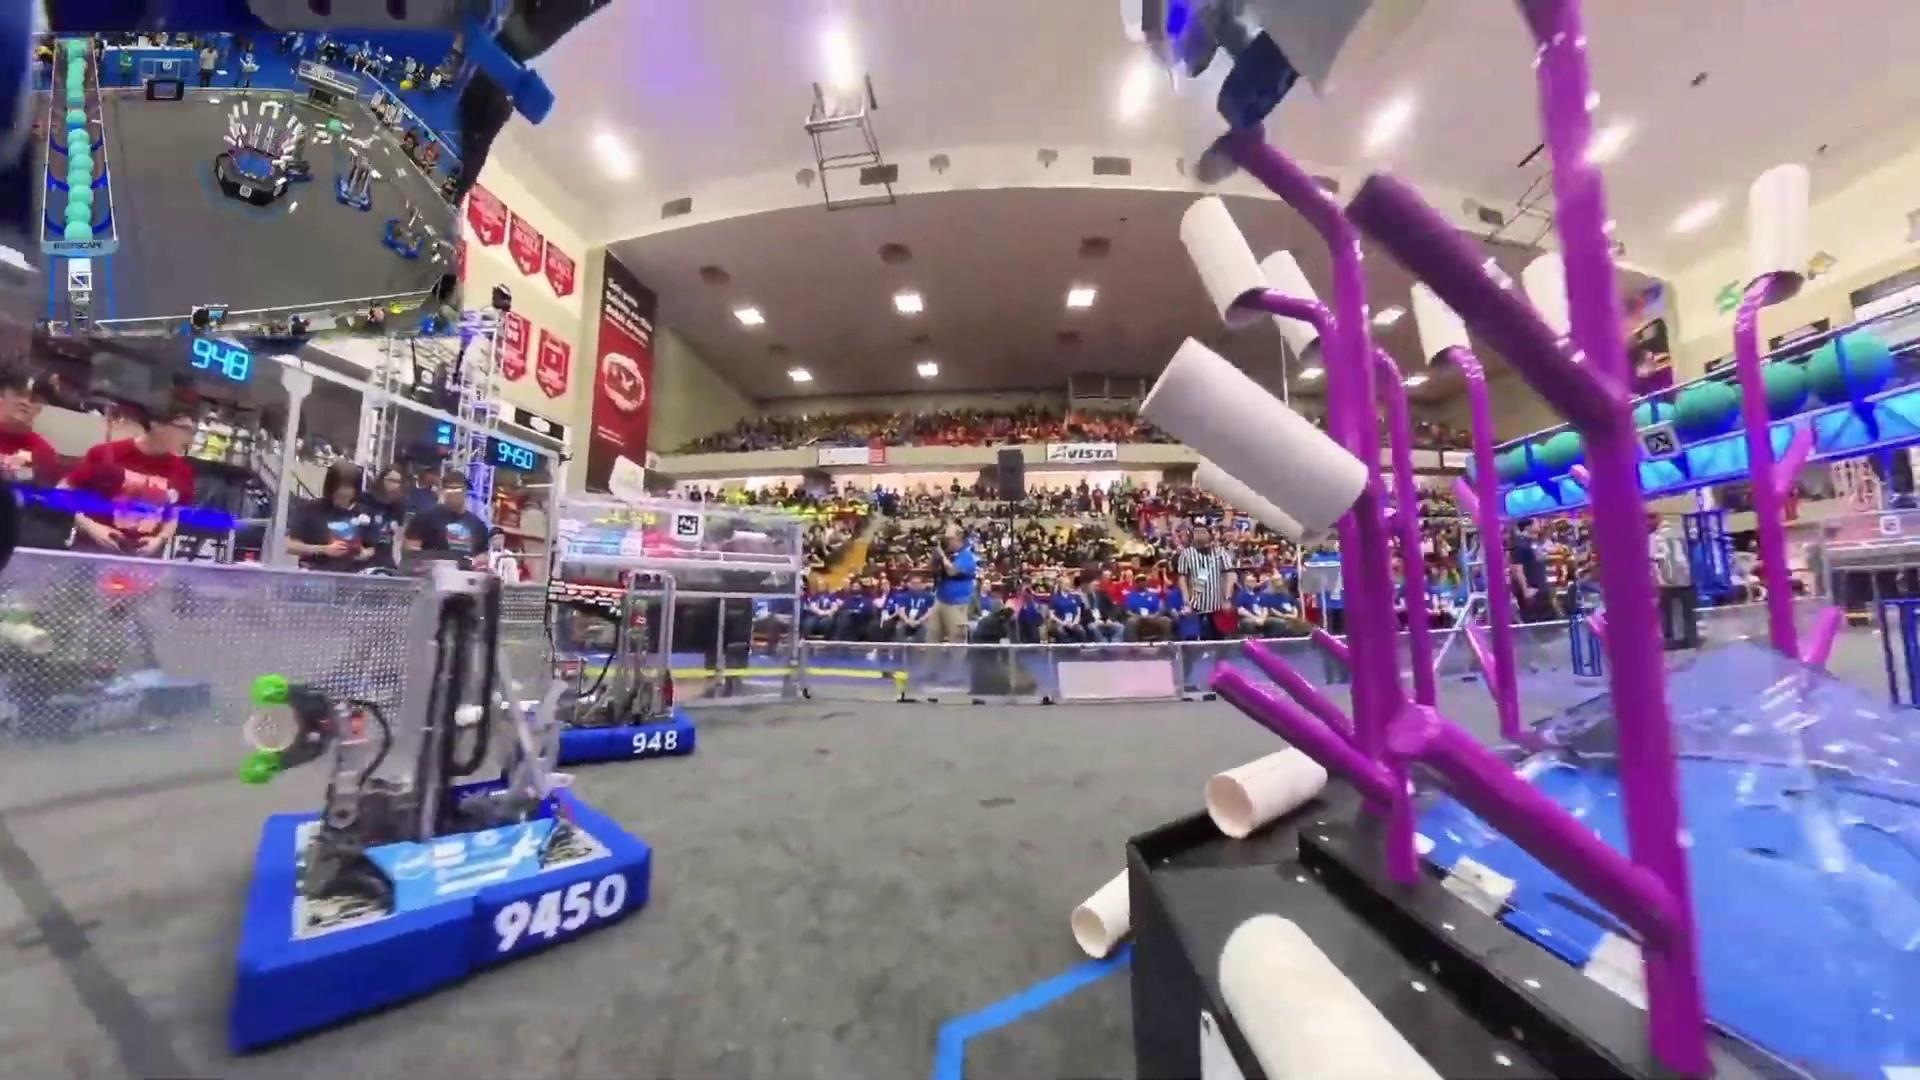robot: (228, 533, 655, 1055), (516, 572, 695, 769), (331, 149, 376, 216), (378, 204, 429, 264)
